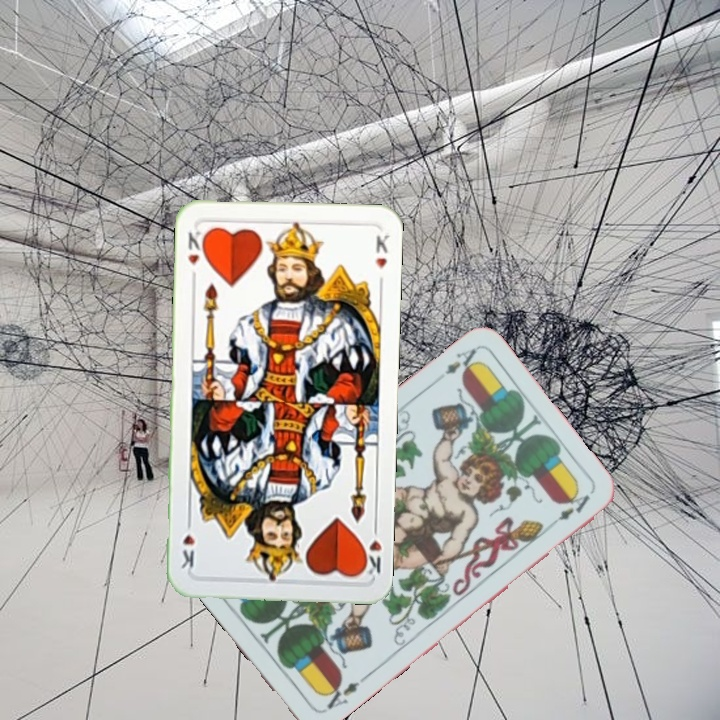EA: (319, 672, 369, 715), (440, 344, 483, 378)
HK: (358, 519, 384, 578), (184, 226, 208, 283)
